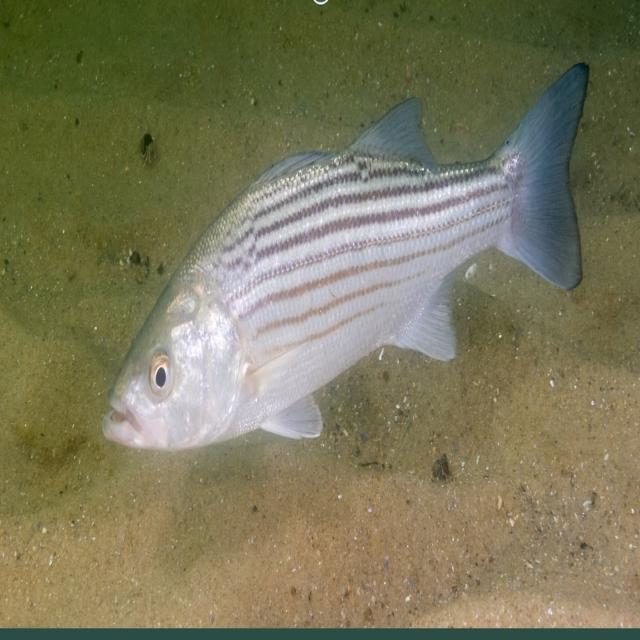Bass - Striped: (103, 63, 588, 449)
